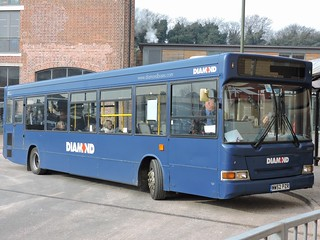bus: (3, 50, 314, 200)
